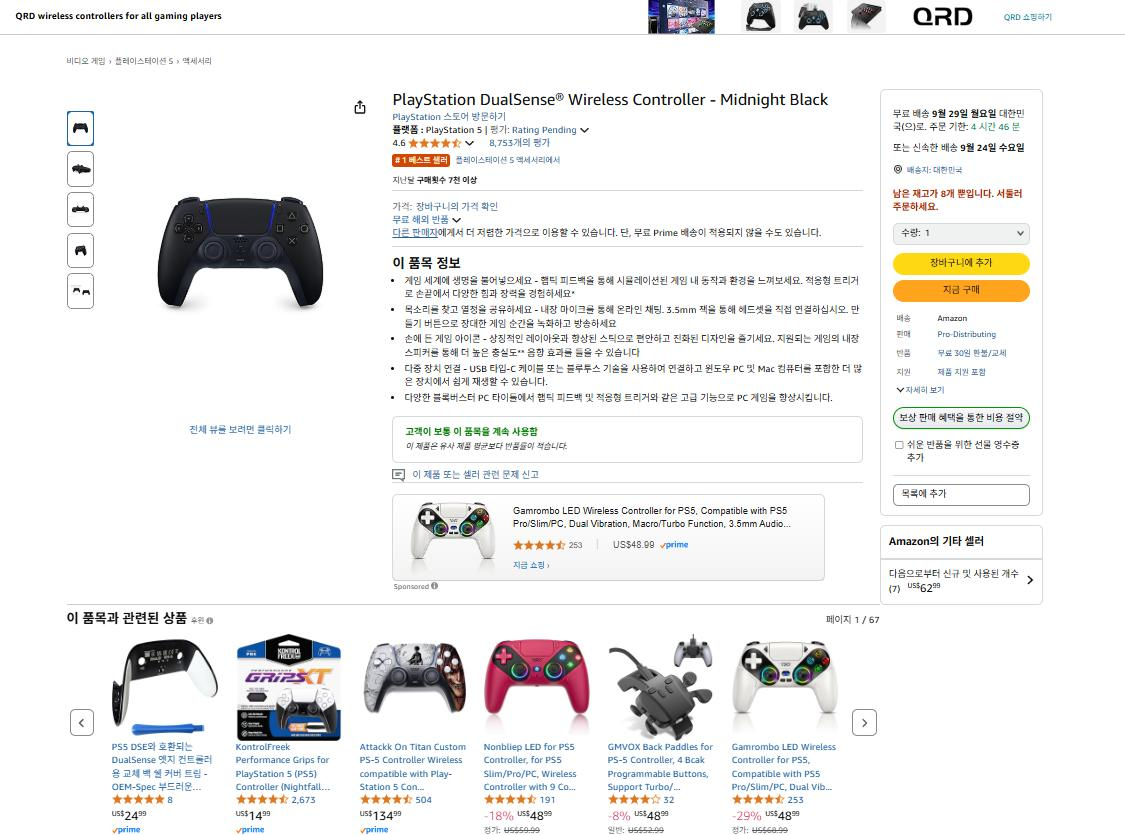button: (884, 564, 1039, 598), (890, 481, 1033, 508), (892, 251, 1031, 277), (893, 279, 1032, 305), (891, 405, 1030, 431), (185, 419, 295, 443), (849, 705, 880, 739), (67, 705, 97, 740)
checkbox: (892, 437, 1027, 466), (891, 221, 1033, 247)
popup: (387, 489, 829, 593), (1, 1, 1125, 37)
